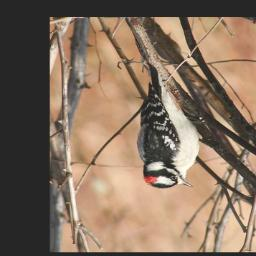Woodpecker: (137, 61, 204, 189)
